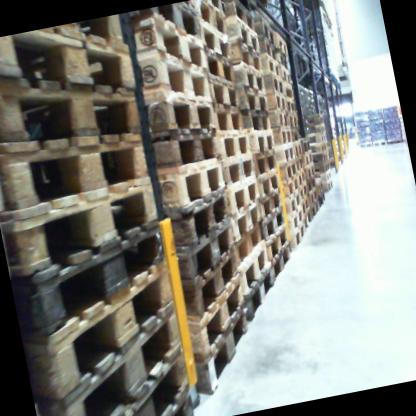pallet: (15, 257, 193, 413), (8, 218, 179, 341), (0, 170, 173, 287), (22, 303, 197, 416), (0, 114, 159, 231), (0, 44, 153, 163), (0, 15, 140, 117), (75, 344, 197, 416), (183, 303, 262, 404), (138, 71, 223, 151), (126, 5, 212, 84), (180, 274, 251, 360), (176, 247, 253, 317), (163, 187, 238, 255), (38, 12, 141, 60), (169, 217, 242, 283), (139, 42, 212, 106), (126, 0, 202, 54), (147, 122, 225, 174), (156, 159, 230, 212), (233, 241, 279, 303), (234, 264, 284, 320), (221, 12, 264, 61), (227, 200, 270, 245), (204, 64, 242, 114), (223, 174, 265, 217), (233, 222, 274, 266), (219, 149, 260, 191), (213, 124, 255, 164), (230, 57, 268, 100), (197, 16, 230, 65), (203, 43, 236, 91), (151, 383, 196, 416), (211, 98, 247, 138), (260, 224, 297, 261), (236, 76, 272, 114), (221, 0, 258, 36), (245, 120, 280, 158), (257, 205, 291, 244), (268, 241, 300, 279), (231, 39, 263, 76), (250, 142, 281, 179), (253, 166, 287, 199), (257, 188, 287, 224), (239, 103, 271, 135), (197, 0, 223, 36), (283, 205, 311, 236), (265, 84, 289, 117), (255, 33, 279, 64), (254, 13, 276, 45), (262, 69, 289, 95), (281, 188, 306, 216), (280, 174, 304, 203), (284, 220, 310, 246), (274, 141, 299, 168), (277, 158, 302, 183), (272, 125, 296, 150), (268, 104, 292, 129), (262, 51, 283, 77), (273, 46, 292, 72), (304, 127, 329, 146), (272, 30, 288, 57), (308, 136, 330, 155), (297, 191, 316, 213), (309, 146, 332, 164), (304, 120, 327, 137), (317, 178, 338, 196), (296, 180, 314, 201), (300, 159, 319, 178), (304, 109, 325, 126), (311, 156, 333, 172), (288, 124, 303, 147), (304, 185, 322, 204), (298, 134, 313, 155), (283, 93, 298, 114), (315, 165, 334, 181), (282, 77, 294, 102), (279, 60, 293, 81), (299, 148, 314, 167), (286, 107, 300, 127), (293, 137, 305, 158), (369, 137, 388, 150), (294, 156, 308, 173), (308, 201, 322, 217), (297, 169, 309, 187), (354, 140, 372, 151), (304, 210, 315, 228), (305, 177, 318, 192), (251, 0, 272, 9), (385, 135, 402, 146), (317, 193, 326, 208)
